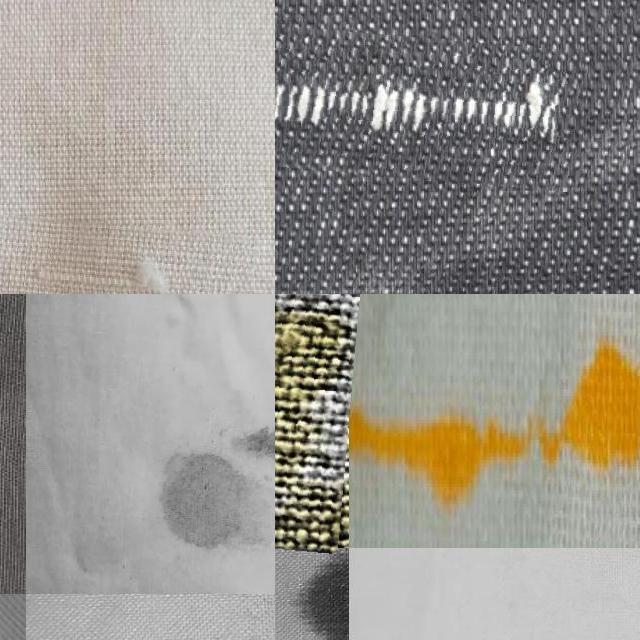Hole: (349, 294, 640, 548), (125, 386, 275, 594), (275, 294, 354, 551), (275, 548, 349, 640)
Thread_other: (275, 23, 587, 183), (0, 220, 255, 294)
